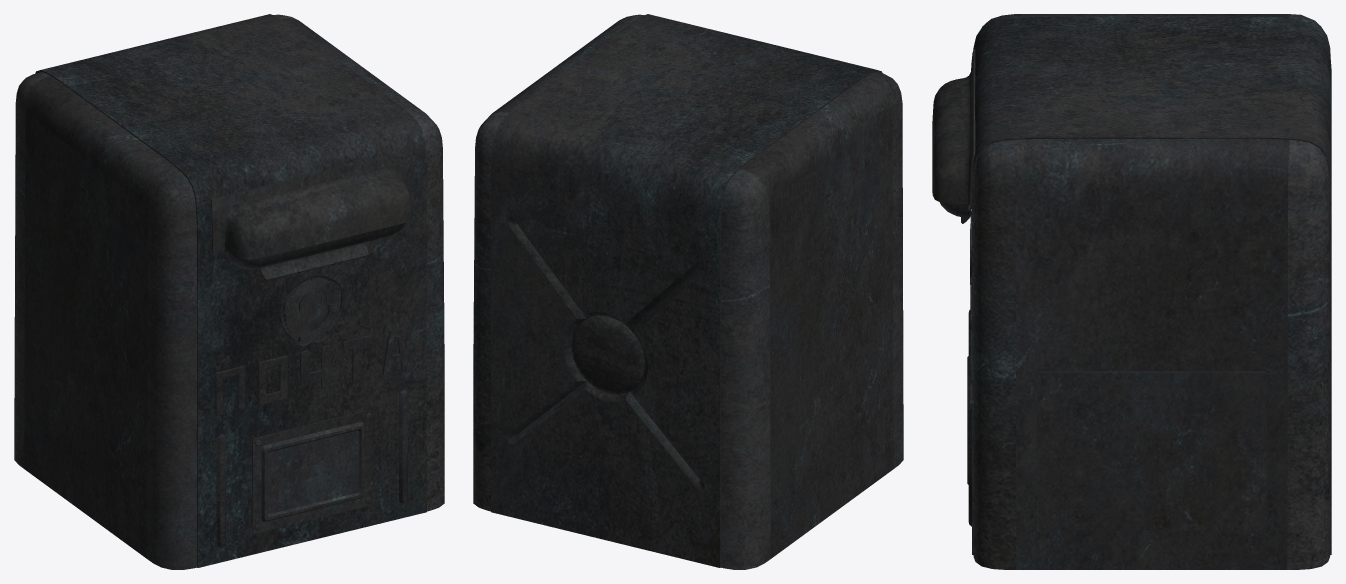
The picture shows the model from 3 angles, left to right: view 1: azimuth 30°, elevation 25°; view 2: azimuth 150°, elevation 25°; view 3: azimuth 270°, elevation 25°; orthographic projection. The views are drawn at different scales.
Parts seen in each view (by area): view 1: Front_cycle_panel_LP, Side_Panel_LP, Letter_Top_enter_LP, Text_Panel_LP, Letter_bottom_enter_LP, USSR; view 2: Front_cycle_panel_LP, Side_Panel_LP; view 3: Side_Panel_LP, Front_cycle_panel_LP, Letter_exit_LP, Letter_Top_enter_LP.
Boxes of the visible parts, bbox=[...] form: Front_cycle_panel_LP: bbox=[35, 14, 426, 567]; Side_Panel_LP: bbox=[14, 14, 444, 569]; Letter_Top_enter_LP: bbox=[211, 150, 413, 259]; Text_Panel_LP: bbox=[252, 410, 373, 533]; Letter_bottom_enter_LP: bbox=[228, 222, 406, 280]; USSR: bbox=[282, 278, 340, 343]; Front_cycle_panel_LP: bbox=[491, 14, 882, 567]; Side_Panel_LP: bbox=[473, 14, 903, 569]; Side_Panel_LP: bbox=[973, 14, 1330, 569]; Front_cycle_panel_LP: bbox=[968, 17, 1331, 554]; Letter_exit_LP: bbox=[1037, 371, 1265, 530]; Letter_Top_enter_LP: bbox=[932, 49, 975, 209].
Size of the model in its own units: 2.81 by 3.61 by 3.13.
